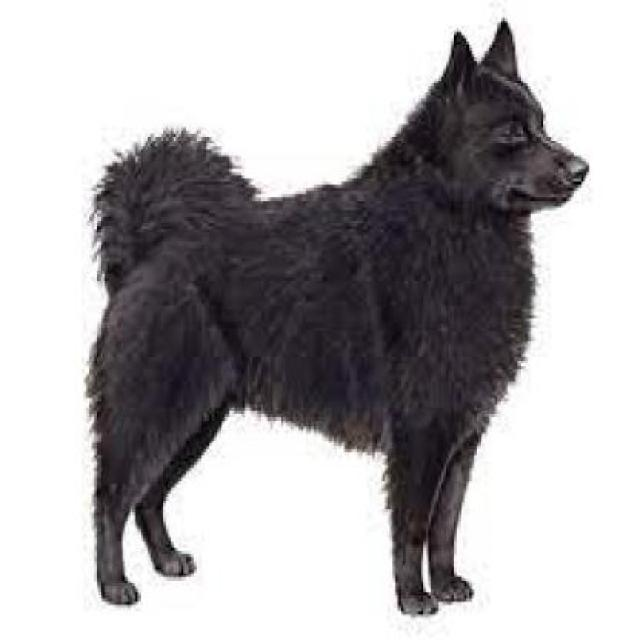animals: (84, 14, 602, 629)
